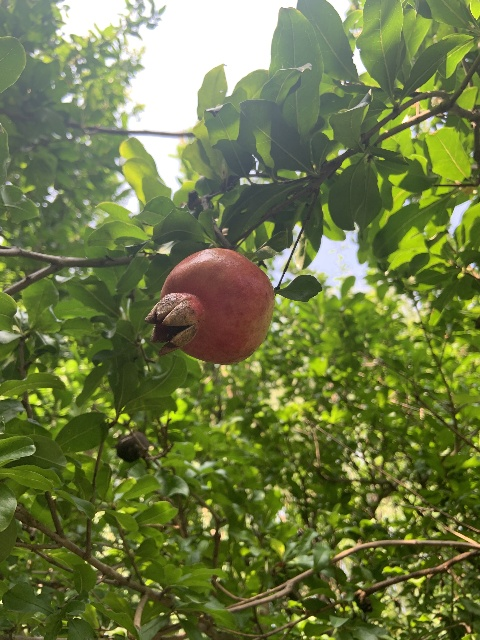ripe: (147, 247, 275, 365)
